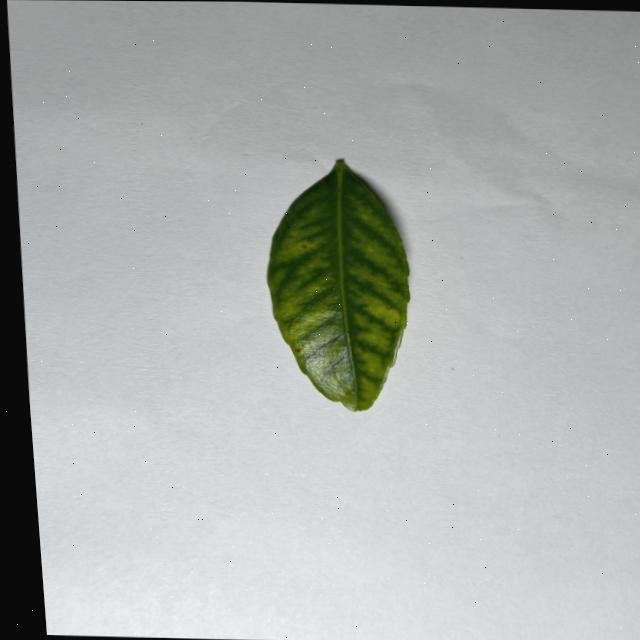greening: (266, 158, 408, 410)
